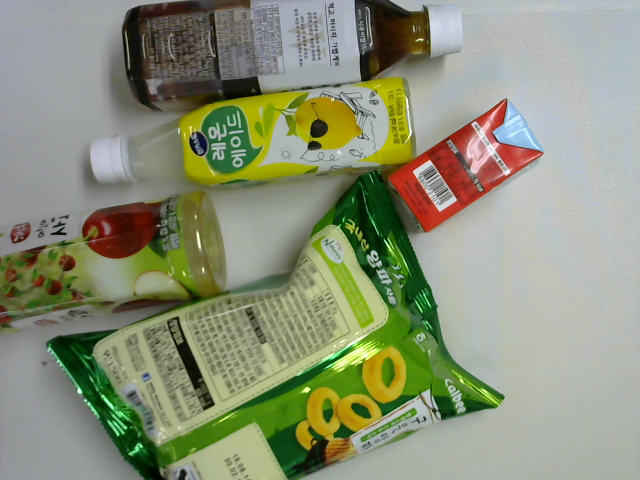Grilled_Onions: (43, 170, 507, 480)
Morning_Apple_500ml: (1, 188, 232, 333)
Picnic_Apple: (386, 95, 546, 235)
Post-meal_recipe_W_tea_500ml: (121, 1, 467, 117)
Sunkist_Lemonaid_Pet: (86, 73, 420, 189)
